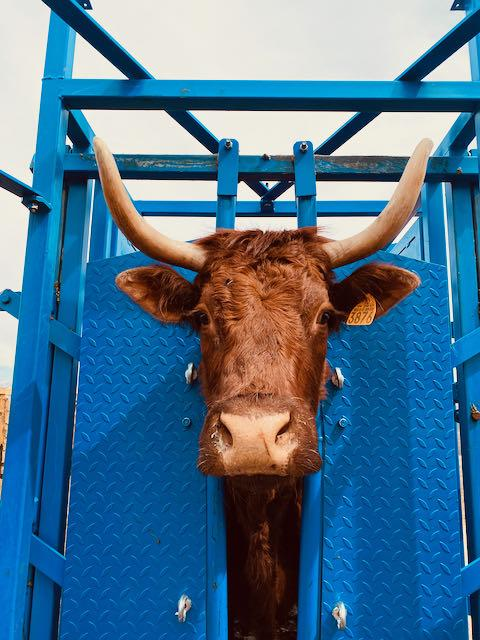muzzles: (190, 404, 328, 483)
